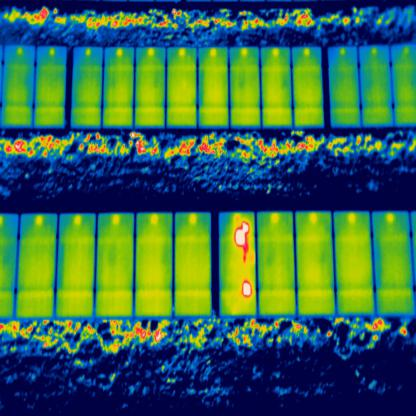Defects: (237, 223, 250, 253), (244, 280, 252, 300)
